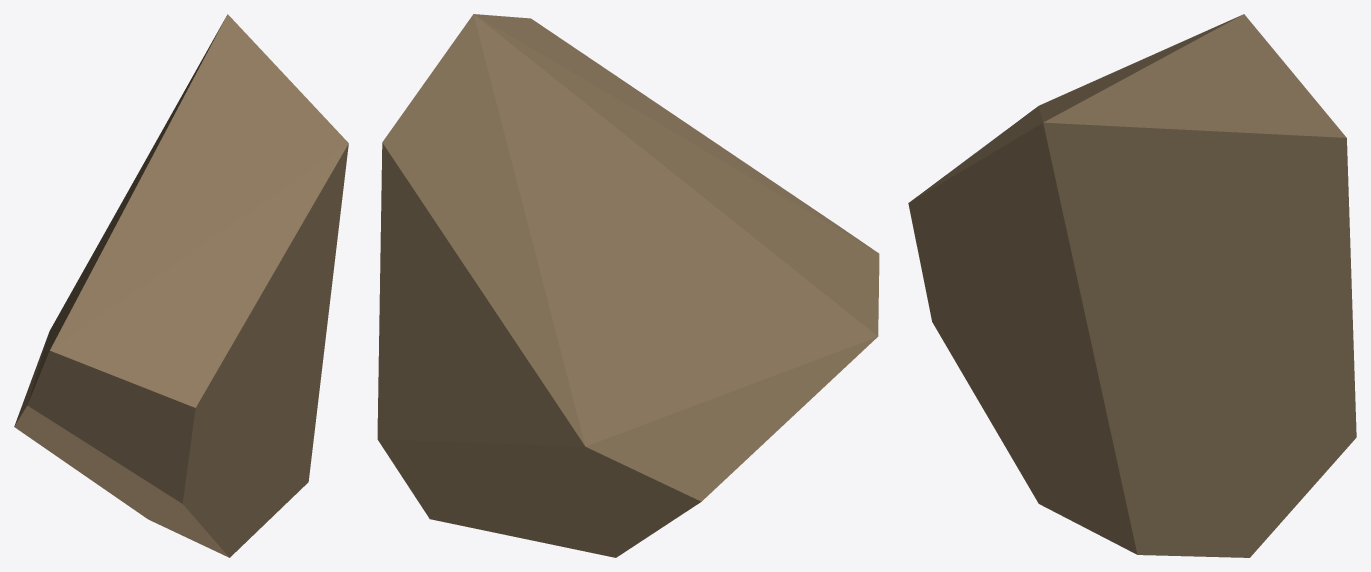
The model's file is Rock07.fbx.
3 views of the same model, side by side, from view 1: azimuth 30°, elevation 25°; view 2: azimuth 150°, elevation 25°; view 3: azimuth 270°, elevation 25° (orthographic). The views are drawn at different scales.
Visible parts, largest first — view 1: Rock07; view 2: Rock07; view 3: Rock07.
Part boxes in pixels (x1,y1,x2,y2): Rock07: (14, 14, 348, 557); Rock07: (377, 14, 879, 557); Rock07: (908, 14, 1356, 557).
Size of the model in its own units: 6.56 by 9.33 by 6.96.
